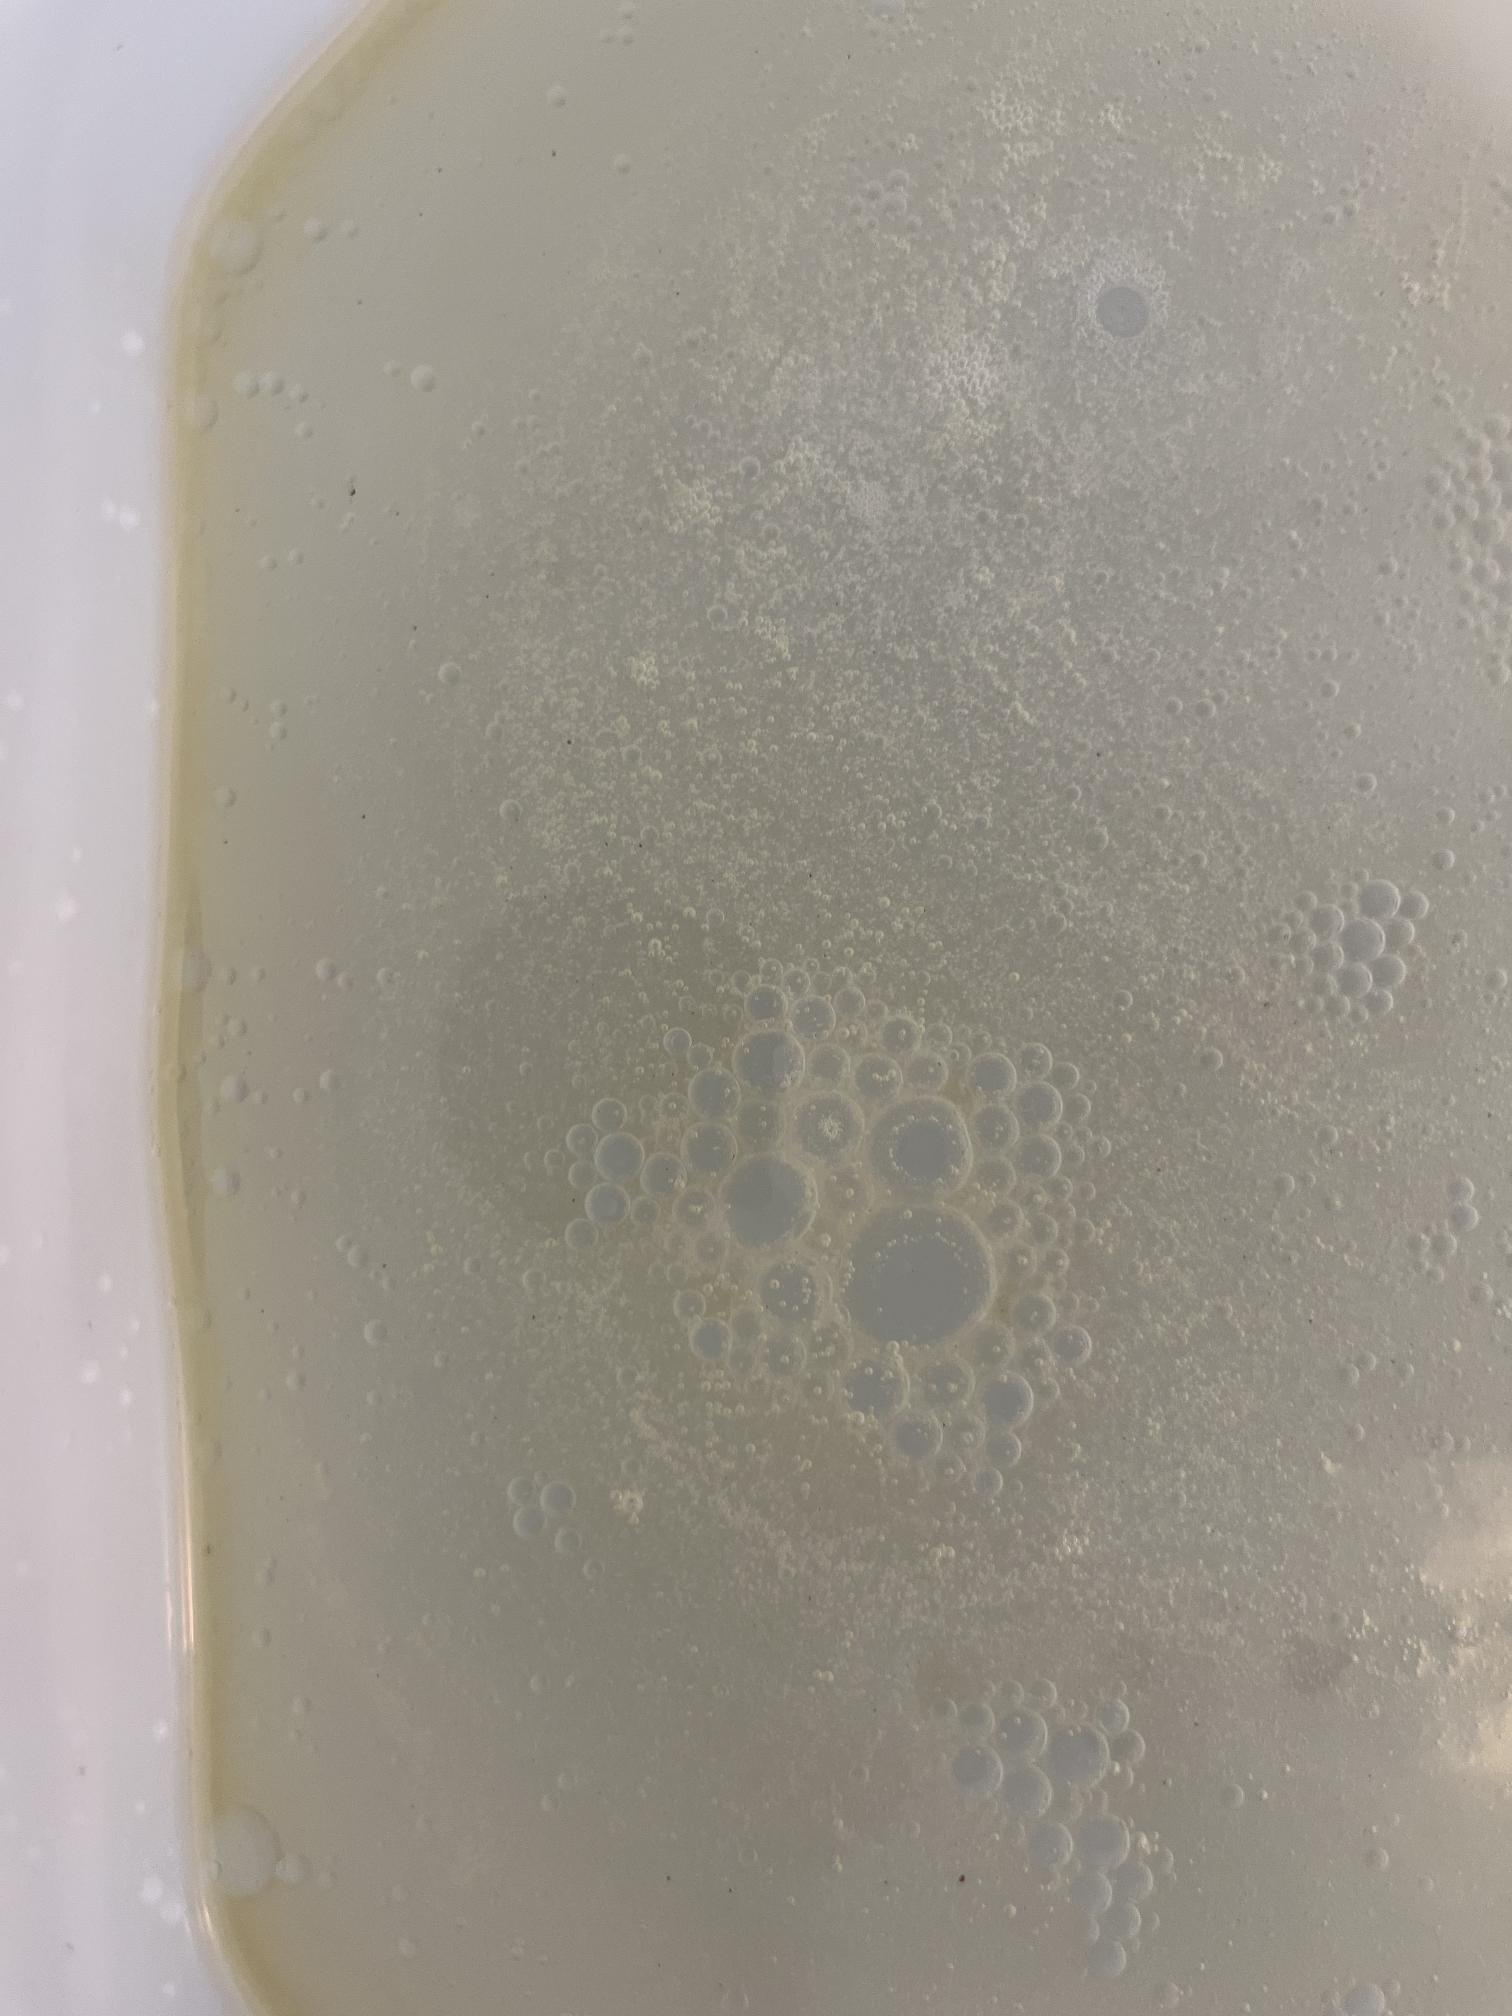Presenca de Oleo - - 140ml: (70, 90, 1429, 1921)
